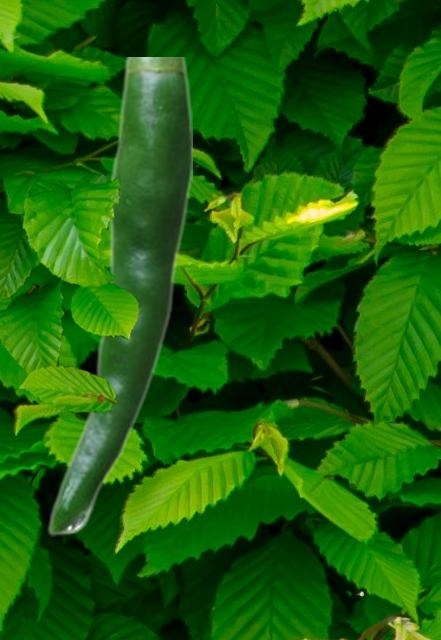green_chili: (46, 57, 191, 535)
